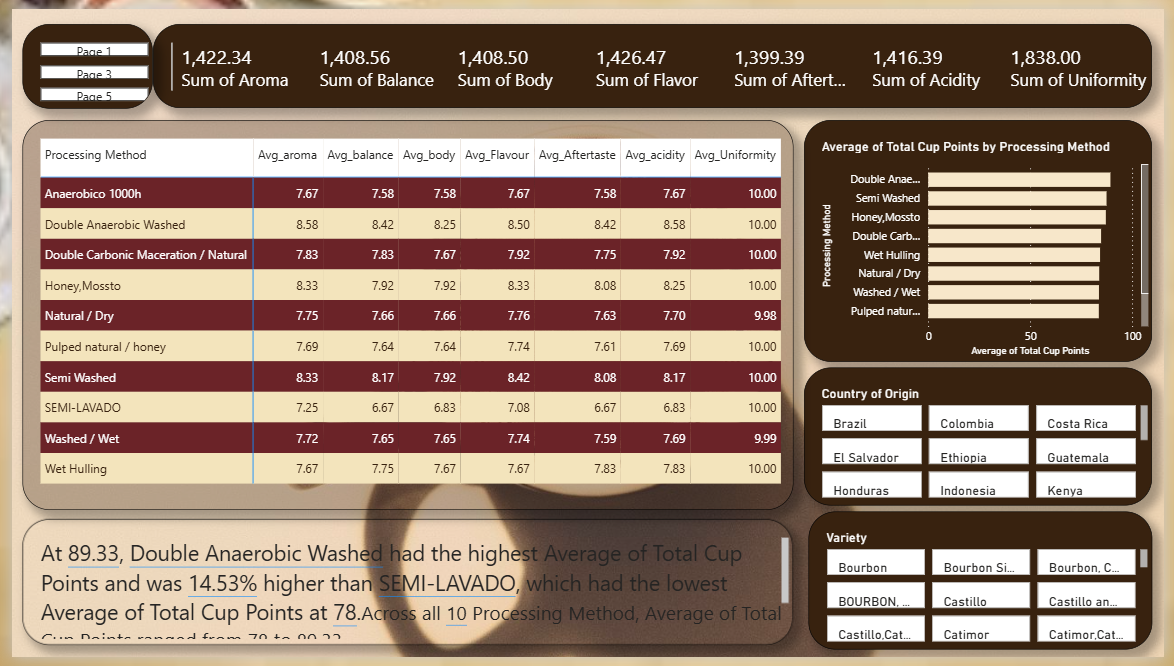

This screenshot's page, from the dashboard's own definition file:
{"tool":"powerbi","page":{"name":"Page 2","canvas":[1280,720],"ordinal":1},"visuals":[{"type":"multiRowCard","fields":{"Values":["Sum(df_arabica_clean csv.Aroma)","Sum(df_arabica_clean csv.Balance)","Sum(df_arabica_clean csv.Body)","Sum(df_arabica_clean csv.Flavor)","Sum(df_arabica_clean csv.Aftertaste)","Sum(df_arabica_clean csv.Acidity)","Sum(df_arabica_clean csv.Uniformity)"]},"box":[156.7,16.7,1110,93.3],"z":0},{"type":"barChart","fields":{"Category":["df_arabica_clean csv.Processing Method"],"Y":["Avg(df_arabica_clean csv.Total Cup Points)"]},"box":[880,123.3,386.7,268.3],"z":1000},{"type":"advancedSlicerVisual","fields":{"Values":["df_arabica_clean csv.Country of Origin"]},"box":[880,398,386.7,153.3],"z":2000},{"type":"advancedSlicerVisual","fields":{"Values":["df_arabica_clean csv.Variety"]},"box":[885,559,381.7,153.3],"z":3000},{"type":"textbox","box":[11.1,566.3,855.7,140],"z":4000},{"type":"pageNavigator","box":[11.1,15.9,144.7,93.8],"z":5000},{"type":"pivotTable","fields":{"Rows":["df_arabica_clean csv.Processing Method"],"Values":["df_arabica_clean csv.Avg_aroma","df_arabica_clean csv.Avg_balance","df_arabica_clean csv.Avg_body","df_arabica_clean csv.Avg_Flavour","df_arabica_clean csv.Avg_Aftertaste","df_arabica_clean csv.Avg_acidity","df_arabica_clean csv.Avg_Uniformity"]},"box":[11.7,123.3,856.7,433.3],"z":6000}]}

Visuals, with their boxes in screenshot pixels (x1, y1, x2, y2), scaled from the page's 1280x720 canvas onto the 1174x666 screenshot:
multiRowCard - Sum(df_arabica_clean csv.Aroma) x Sum(df_arabica_clean csv.Balance): detection(144, 15, 1162, 102)
barChart - df_arabica_clean csv.Processing Method x Avg(df_arabica_clean csv.Total Cup Points): detection(807, 114, 1162, 362)
advancedSlicerVisual - df_arabica_clean csv.Country of Origin: detection(807, 368, 1162, 510)
advancedSlicerVisual - df_arabica_clean csv.Variety: detection(812, 517, 1162, 659)
textbox: detection(10, 524, 795, 653)
pageNavigator: detection(10, 15, 143, 101)
pivotTable - df_arabica_clean csv.Processing Method x df_arabica_clean csv.Avg_aroma: detection(11, 114, 796, 515)
